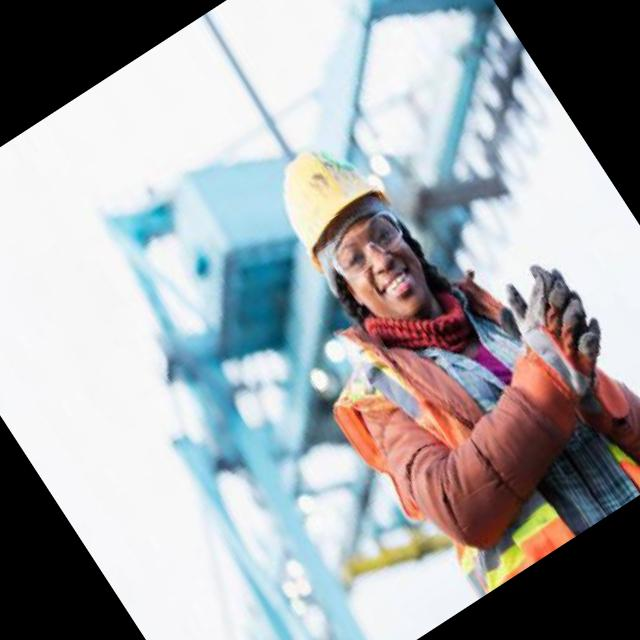hard_hat: (259, 125, 400, 267)
safety_vest: (308, 246, 640, 611)
vehicle: (187, 39, 640, 615)
